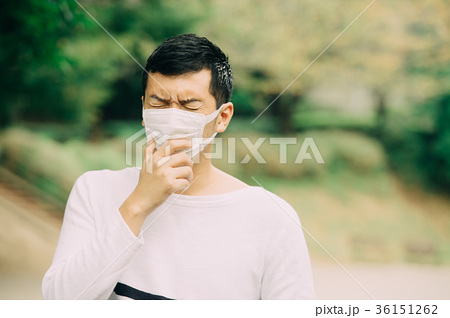mask: (142, 107, 207, 161)
